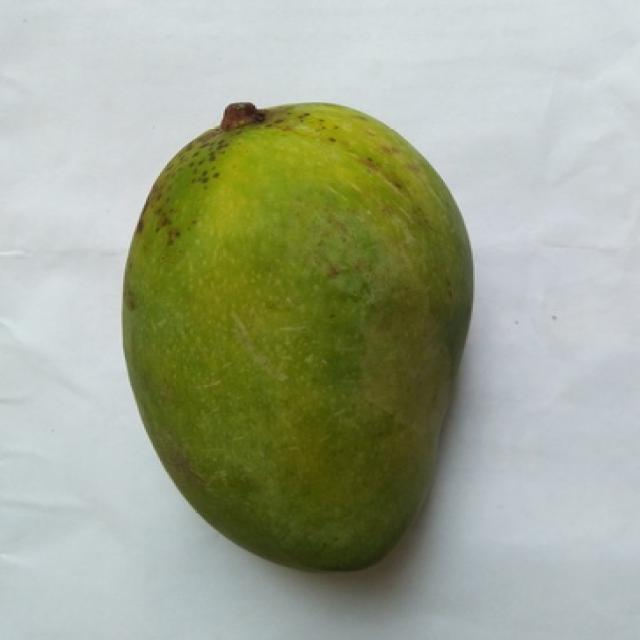Mango: (123, 103, 471, 570)
